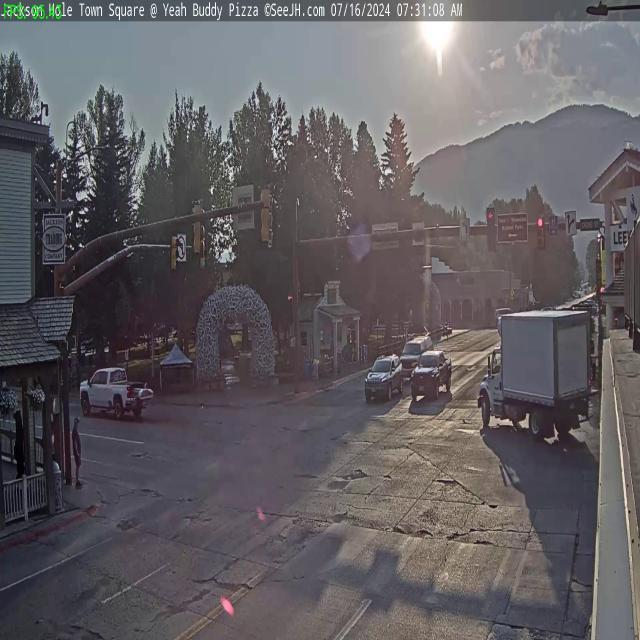person: (70, 416, 84, 494)
pickup: (78, 364, 148, 424), (411, 348, 452, 402)
suv: (364, 352, 404, 404)
traffic light: (190, 200, 204, 256), (260, 183, 272, 244), (486, 208, 497, 254), (170, 234, 179, 273), (536, 215, 544, 248)
truck: (475, 304, 591, 444), (398, 334, 432, 384)
